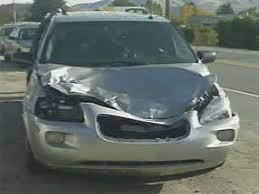Headlight-Damage: (193, 87, 239, 128)
bonnet-dent: (36, 61, 198, 120)
